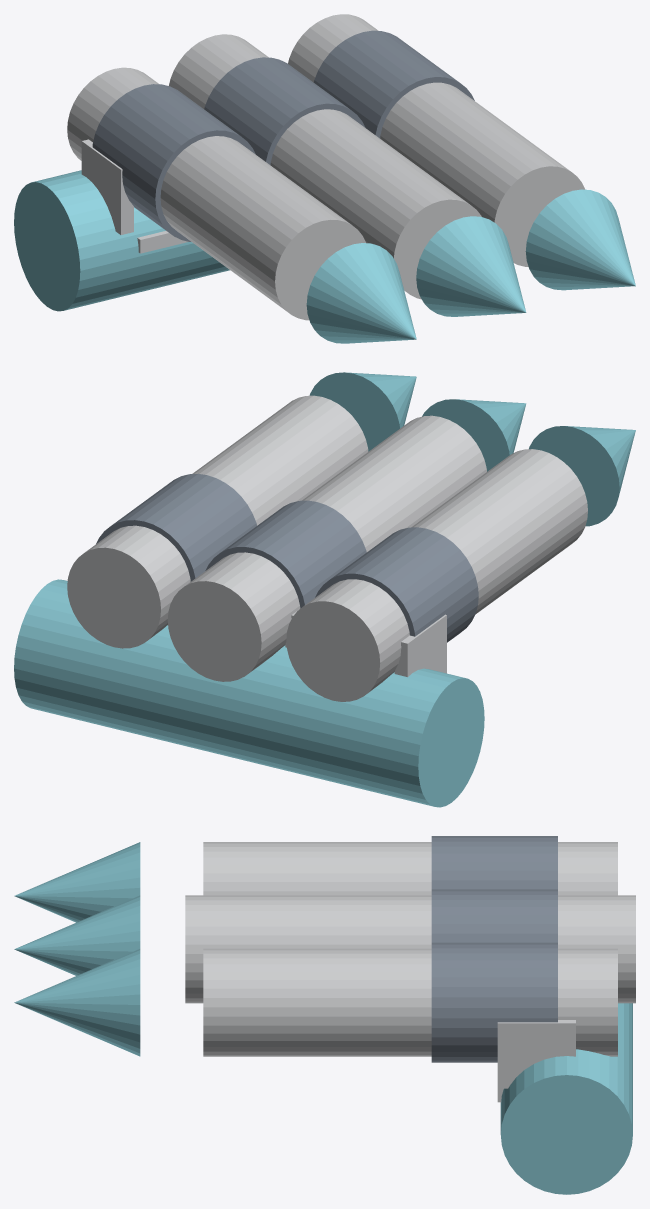
The model's file is pls-2.glb.
The picture shows the model from 3 angles, top to bottom: view 1: azimuth 30°, elevation 25°; view 2: azimuth 150°, elevation 25°; view 3: azimuth 270°, elevation 25°; orthographic projection.
Parts seen in each view (by area): view 1: part000, part007, part014, part021, part001, part016, part009, part002, part008, part015, part003, part004; view 2: part021, part000, part007, part014, part001, part008, part015, part002, part016, part009, part003; view 3: part014, part007, part021, part000, part015, part016, part008, part001, part002, part009, part019.
Part boxes in pixels (x1,y1,x2,y2): part000: (67, 67, 365, 320); part007: (169, 34, 481, 299); part014: (288, 14, 585, 266); part021: (14, 170, 229, 311); part001: (92, 84, 255, 241); part016: (525, 189, 635, 290); part009: (416, 216, 526, 316); part002: (306, 243, 416, 343); part008: (204, 57, 365, 165); part015: (313, 30, 474, 138); part003: (81, 139, 133, 234); part004: (137, 231, 188, 253); part021: (14, 579, 484, 807); part000: (286, 449, 587, 701); part007: (167, 415, 486, 681); part014: (67, 395, 368, 648); part001: (315, 527, 478, 642); part008: (205, 500, 366, 608); part015: (96, 473, 256, 581); part002: (529, 426, 635, 526); part016: (309, 372, 416, 451); part009: (422, 399, 526, 471); part003: (394, 614, 446, 677); part014: (203, 948, 617, 1056); part007: (185, 895, 635, 1003); part021: (500, 1003, 632, 1194); part000: (203, 842, 617, 895); part015: (431, 942, 557, 1062); part016: (14, 949, 140, 1056); part008: (431, 889, 557, 942); part001: (431, 836, 557, 889); part002: (14, 842, 140, 922); part009: (14, 895, 140, 975); part019: (497, 1020, 575, 1088).
Size of the model in its own units: 1.55 by 0.74 by 2.07.
